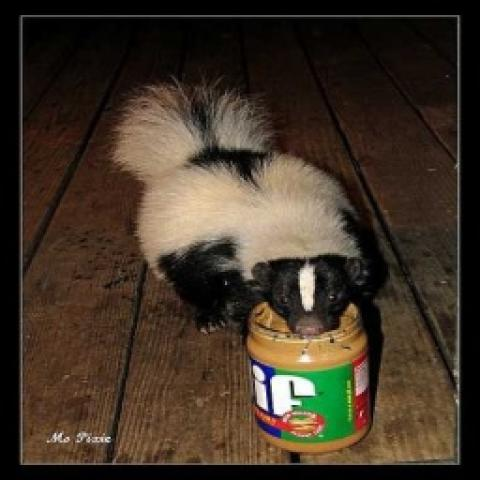small_animal: (21, 17, 460, 465), (107, 75, 388, 339)
